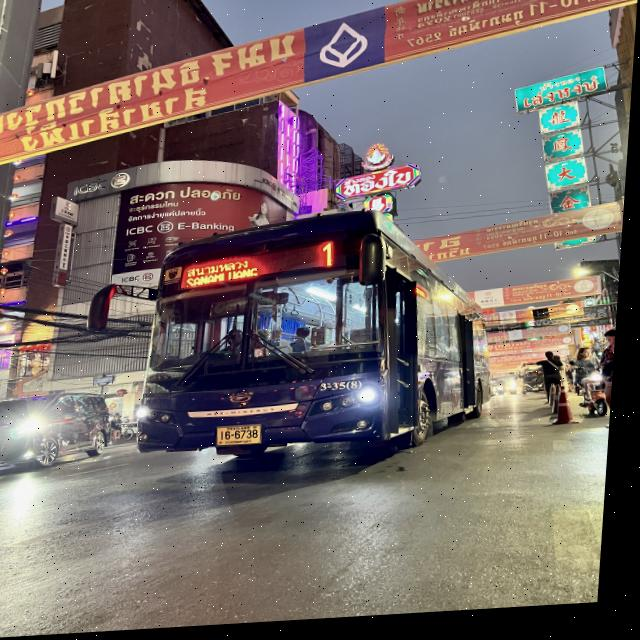Bus-Line-Number: (307, 237, 356, 280)
Destination-Sign-Normal: (182, 260, 270, 289)
TSB-Bus: (139, 209, 505, 468)
